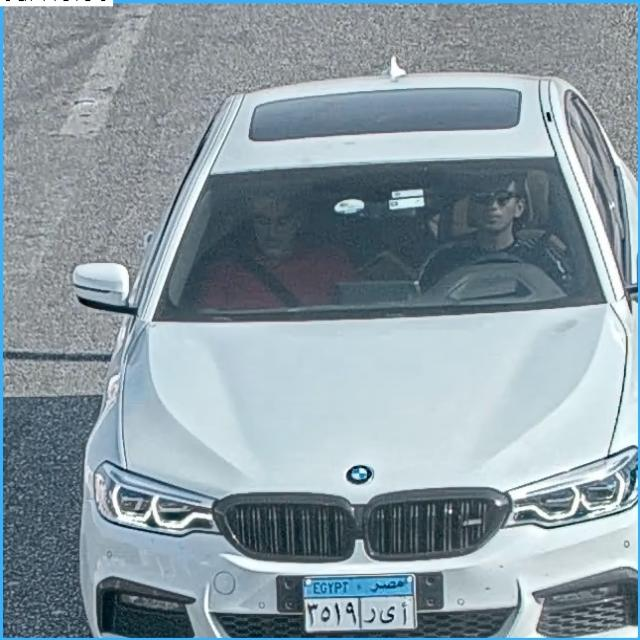windshield: (159, 166, 612, 306)
